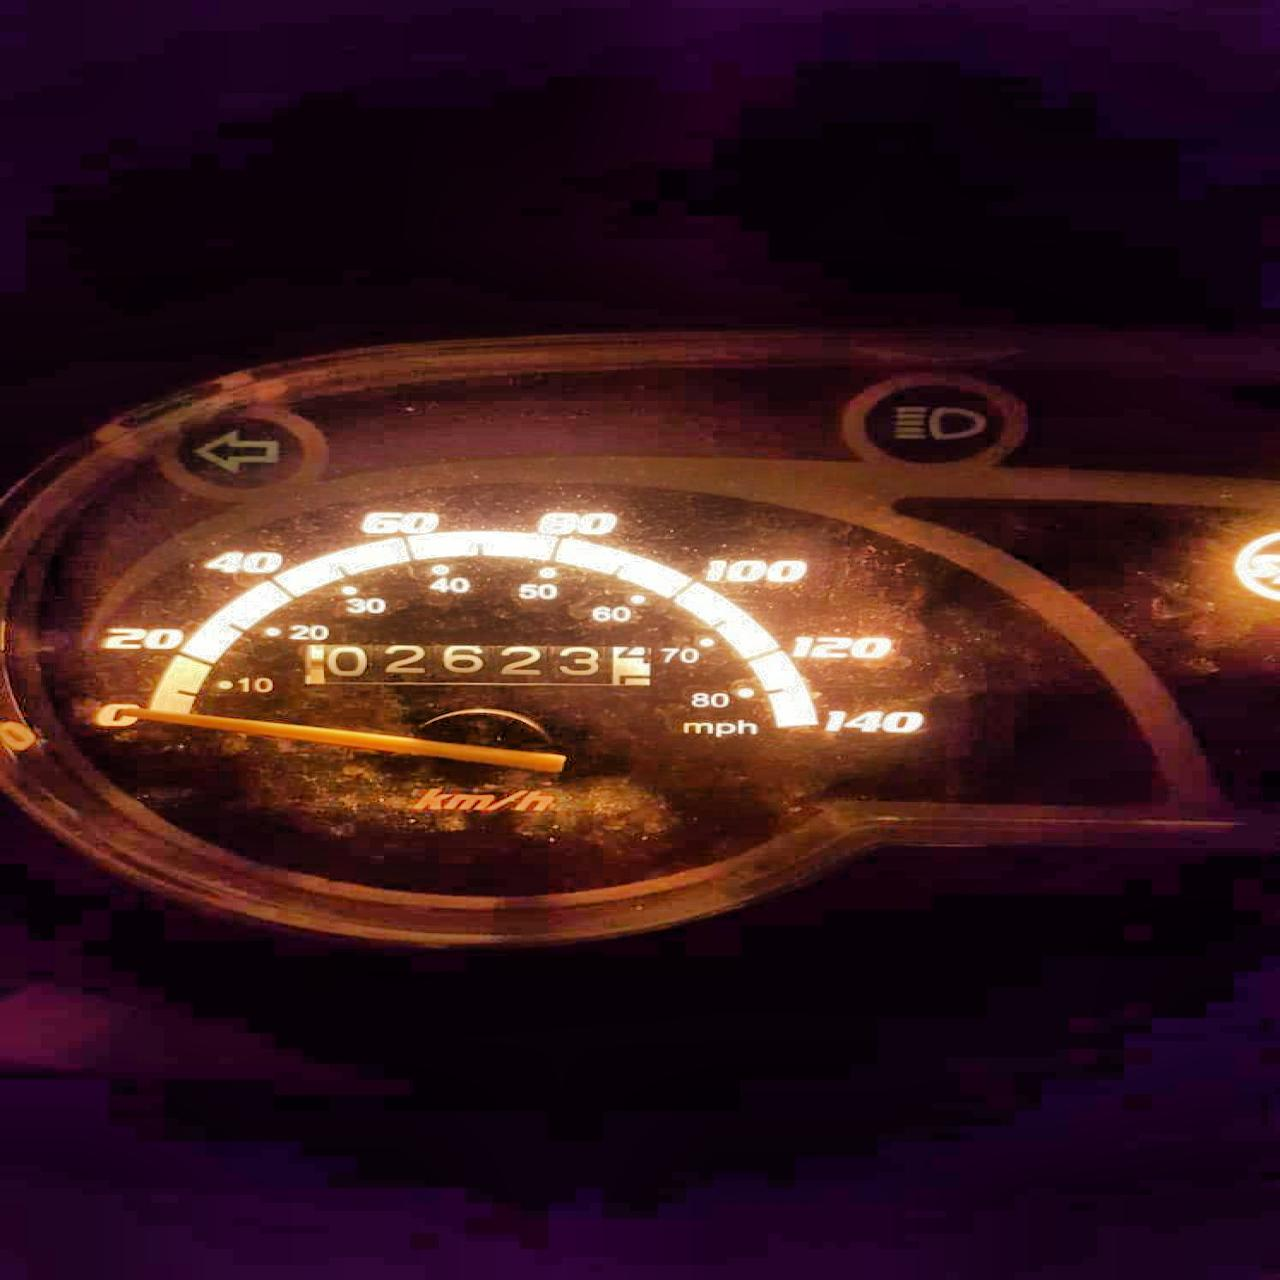0: (324, 644, 370, 676)
2: (498, 644, 546, 676), (382, 642, 428, 675)
3: (557, 646, 598, 675)
4: (612, 644, 652, 667)
6: (441, 644, 489, 672)
odometer: (301, 642, 656, 687)
